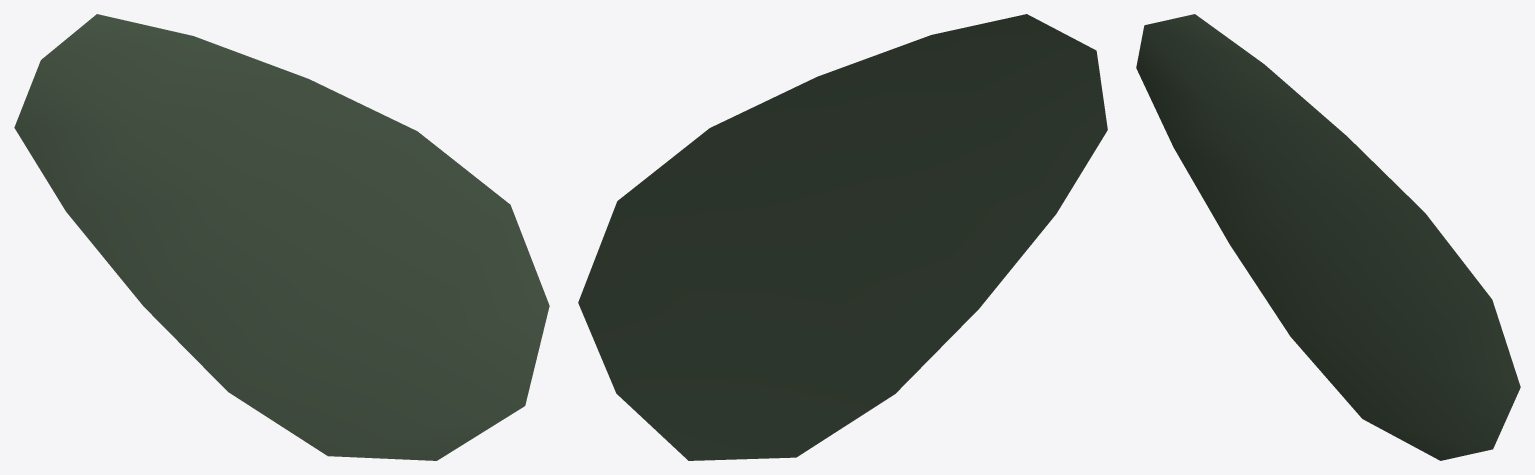
The model's file is duck_feather_flight_tertiary_027.obj.
The picture shows the model from 3 angles, left to right: view 1: azimuth 30°, elevation 25°; view 2: azimuth 150°, elevation 25°; view 3: azimuth 330°, elevation 25°; orthographic projection. The views are drawn at different scales.
Visible parts, largest first — view 1: feather_flight_tertiary_027; view 2: feather_flight_tertiary_027; view 3: feather_flight_tertiary_027.
Part boxes in pixels (left/top/right/bottom): feather_flight_tertiary_027: left=14, top=14, right=549, bottom=460; feather_flight_tertiary_027: left=578, top=14, right=1107, bottom=460; feather_flight_tertiary_027: left=1136, top=14, right=1520, bottom=460.
Bounding box in the file's own units: 0.0266 × 0.0253 × 0.000969.
